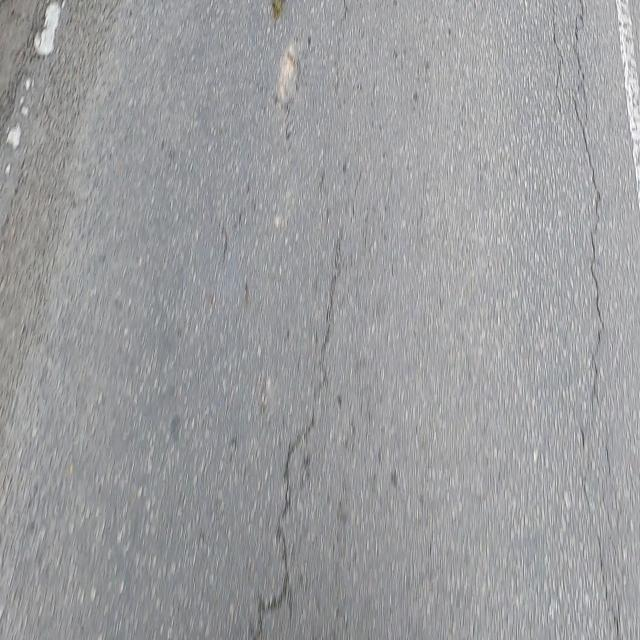Retak-Memanjang: (250, 230, 346, 640), (572, 1, 605, 401)
